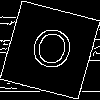O: (25, 25, 77, 81)
